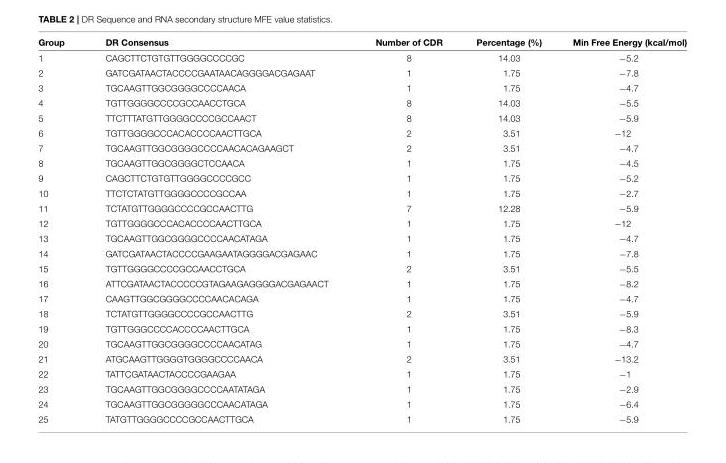table: (37, 37, 686, 423)
table column: (84, 37, 351, 423), (556, 37, 686, 423), (351, 37, 458, 423), (458, 37, 556, 423), (37, 37, 84, 423)
table column header: (37, 37, 686, 50)
table row: (37, 215, 686, 231), (37, 50, 686, 65), (37, 65, 686, 80), (37, 80, 686, 95), (37, 95, 686, 110), (37, 110, 686, 125), (37, 125, 686, 140), (37, 140, 686, 155), (37, 155, 686, 170), (37, 170, 686, 185), (37, 185, 686, 200), (37, 200, 686, 215), (37, 231, 686, 246), (37, 246, 686, 261), (37, 261, 686, 276), (37, 276, 686, 291), (37, 291, 686, 306), (37, 306, 686, 321), (37, 321, 686, 336), (37, 336, 686, 351), (37, 351, 686, 366), (37, 366, 686, 381), (37, 381, 686, 396), (37, 396, 686, 411), (37, 37, 686, 50), (37, 411, 686, 423)
